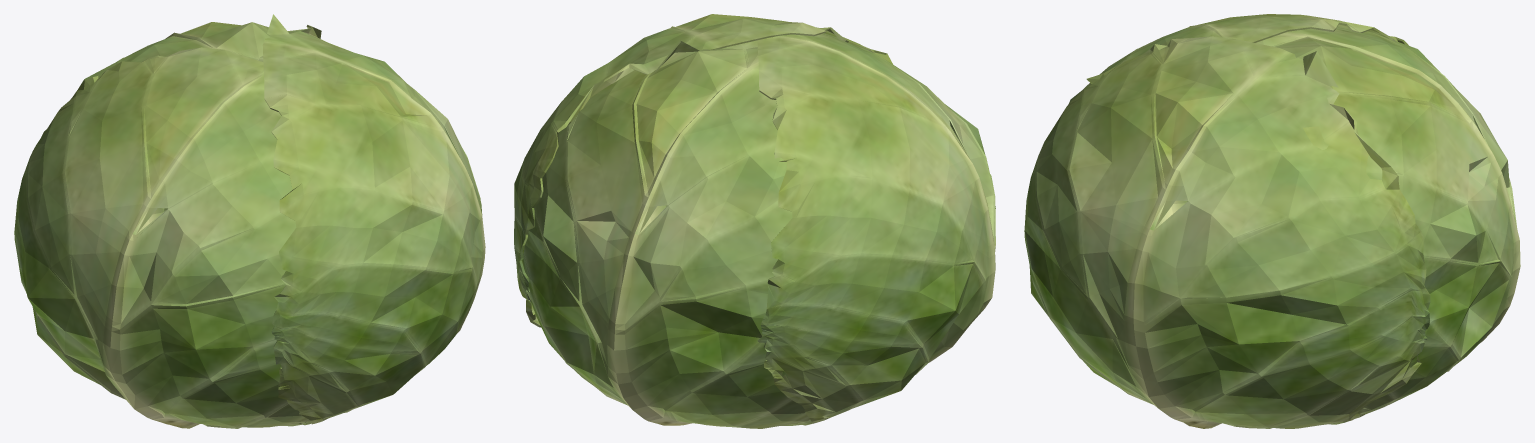
The model's file is cabbage_single_light.dae.
3 views of the same model, side by side, from view 1: azimuth 30°, elevation 25°; view 2: azimuth 150°, elevation 25°; view 3: azimuth 270°, elevation 25° (orthographic). The views are drawn at different scales.
Visible parts, largest first — view 1: node; view 2: node; view 3: node.
Part boxes in pixels (box(x1,y1,x2,y2)): node: box(14, 14, 485, 428); node: box(514, 14, 995, 428); node: box(1024, 14, 1520, 428).
Bounding box in the file's own units: 115 × 114 × 93.2.
1 material, 1 textured.
